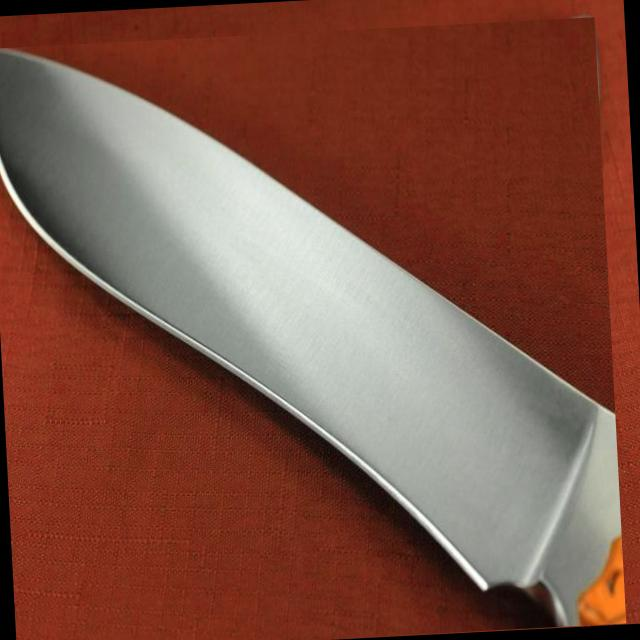Knife: (0, 51, 622, 627)
